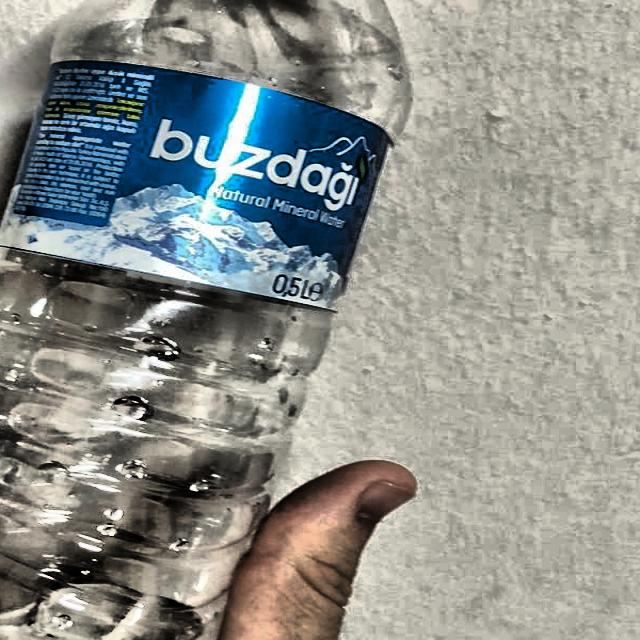plastic: (0, 0, 414, 640)
